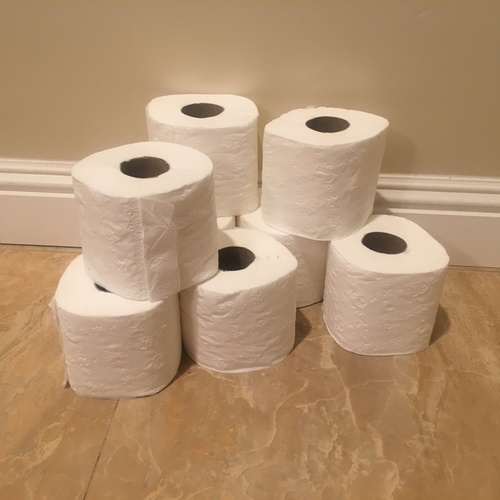roll: (68, 143, 218, 302), (50, 250, 180, 400), (322, 214, 449, 357), (262, 105, 390, 240), (182, 229, 300, 373), (145, 92, 260, 218), (238, 190, 322, 311)
